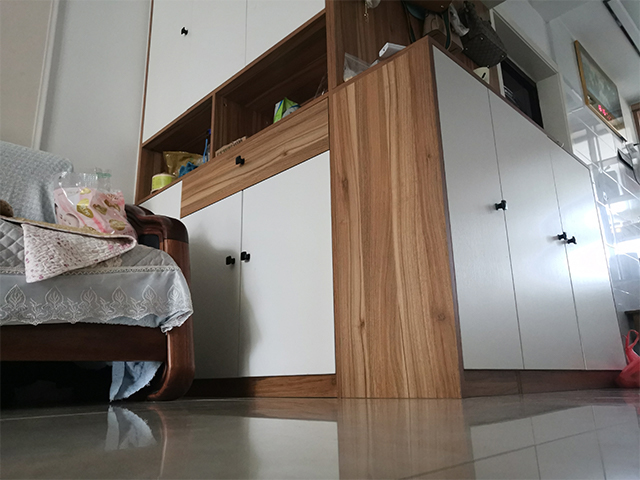cabinet: (194, 42, 456, 400), (399, 38, 632, 402)
sofa: (1, 141, 198, 403)
